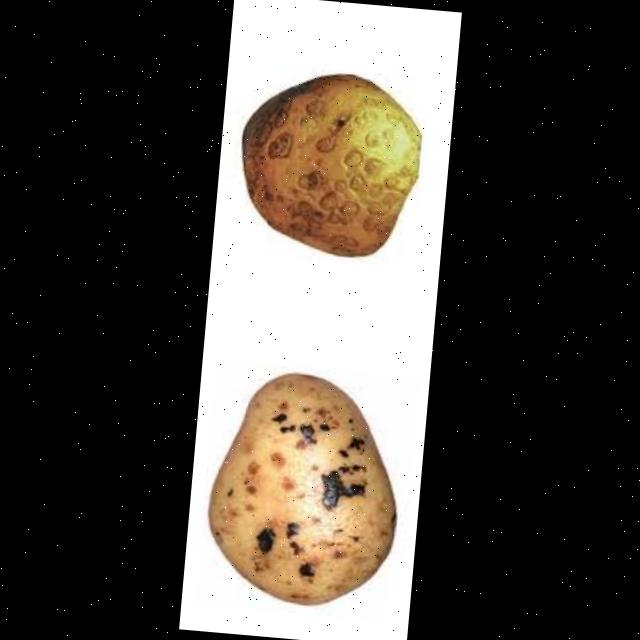Diseased-fungal potato: (198, 360, 417, 630), (226, 58, 429, 272)
